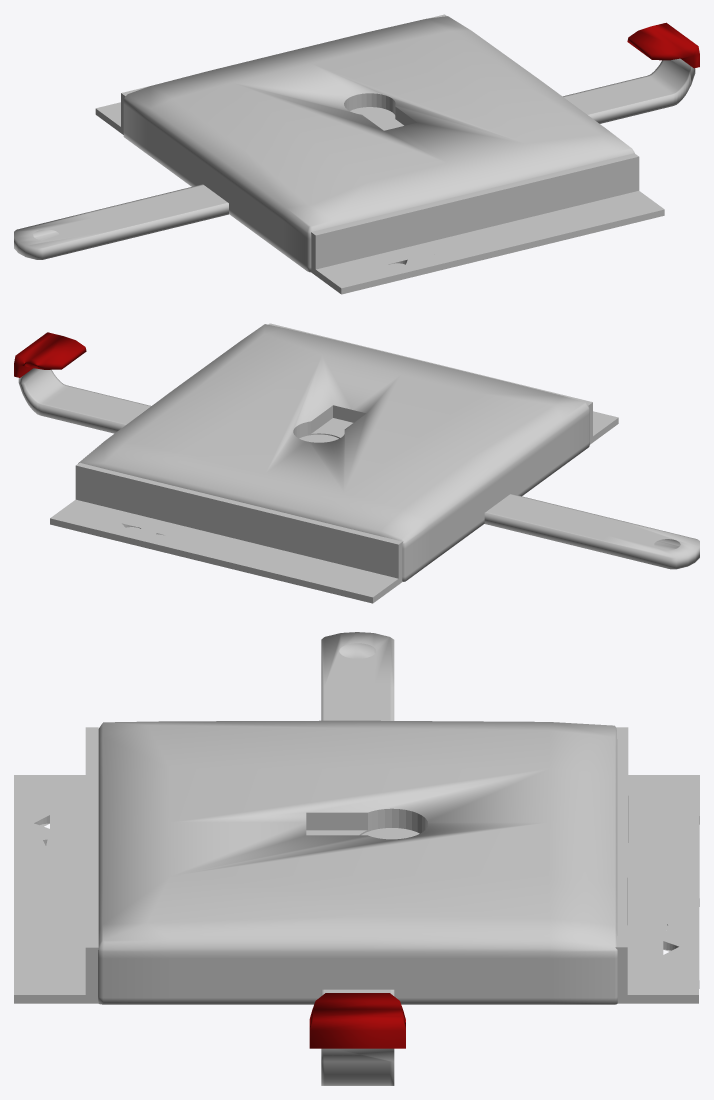
The model's file is Garage Lock2.0.obj.
3 renders of one model, top to bottom at view 1: azimuth 30°, elevation 25°; view 2: azimuth 150°, elevation 25°; view 3: azimuth 270°, elevation 25°, orthographic. The views are drawn at different scales.
Parts seen in each view (by area): view 1: 0-Cube_Cube.001, Plane.001_Plane.002; view 2: 0-Cube_Cube.001, Plane.001_Plane.002; view 3: 0-Cube_Cube.001, Plane.001_Plane.002.
Part boxes in pixels (box(x1,y1,x2,y2)): 0-Cube_Cube.001: box(95, 14, 664, 294); Plane.001_Plane.002: box(14, 22, 699, 259); 0-Cube_Cube.001: box(50, 323, 618, 603); Plane.001_Plane.002: box(14, 332, 699, 569); 0-Cube_Cube.001: box(14, 720, 699, 1004); Plane.001_Plane.002: box(309, 632, 405, 1085).
Bounding box in the file's own units: 0.3596 × 0.0293 × 0.2306.
